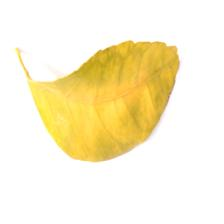greening: (36, 56, 162, 156)
